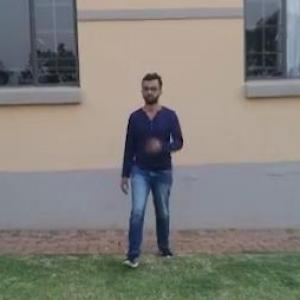follow: (121, 71, 180, 261)
